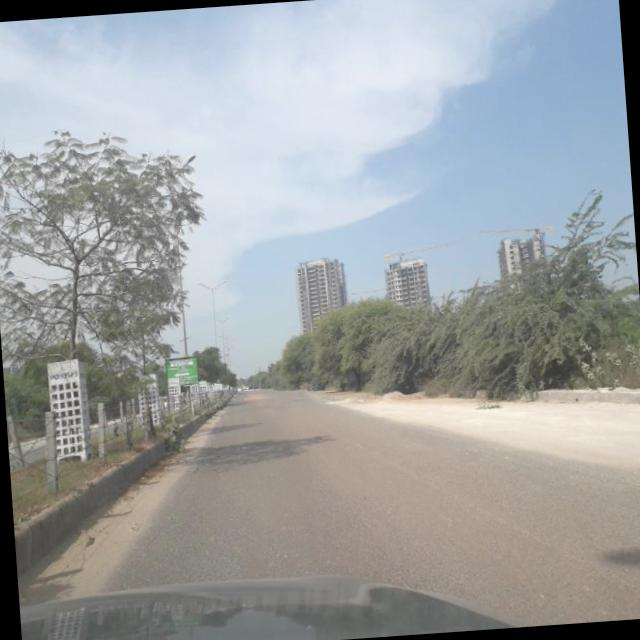crack: (102, 413, 640, 594)
pothole: (352, 411, 613, 594)
